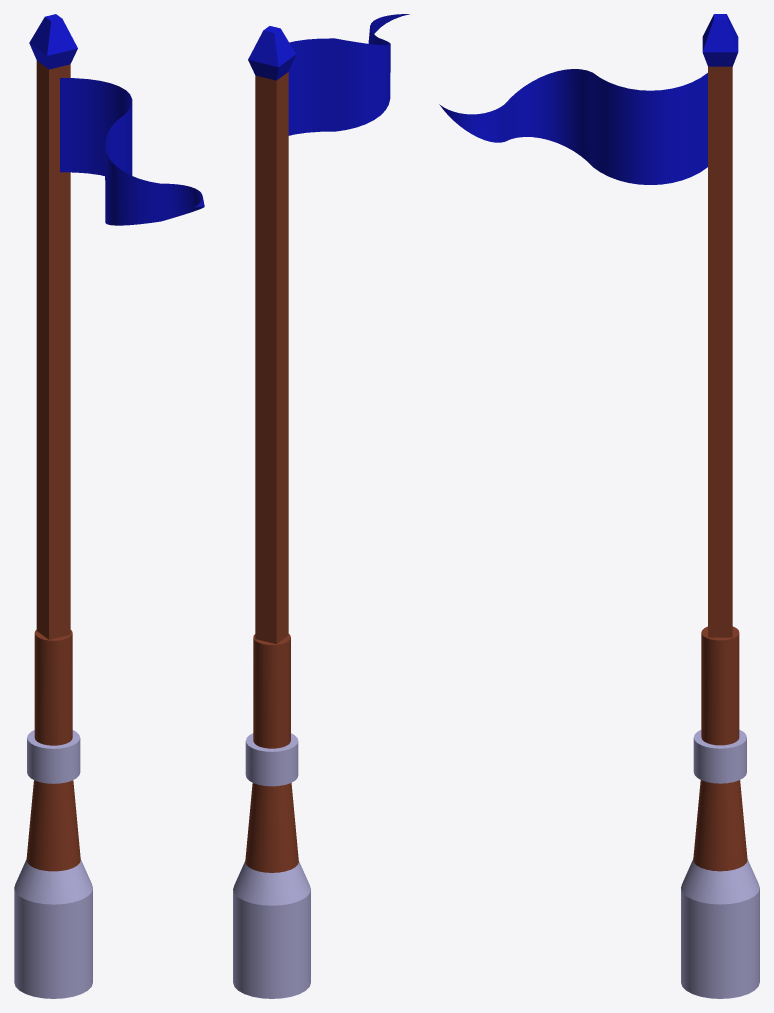
The model's file is FlagBlue.fbx.
3 views of the same model, side by side, from view 1: azimuth 30°, elevation 25°; view 2: azimuth 150°, elevation 25°; view 3: azimuth 270°, elevation 25° (orthographic).
Parts seen in each view (by area): view 1: mergedBlocks; view 2: mergedBlocks; view 3: mergedBlocks.
Boxes of the visible parts, x1,y1,x2,y2 form: mergedBlocks: [14, 14, 204, 998]; mergedBlocks: [233, 14, 409, 998]; mergedBlocks: [439, 14, 759, 998].
Size of the model in its own units: 19.22 by 248 by 74.82.
